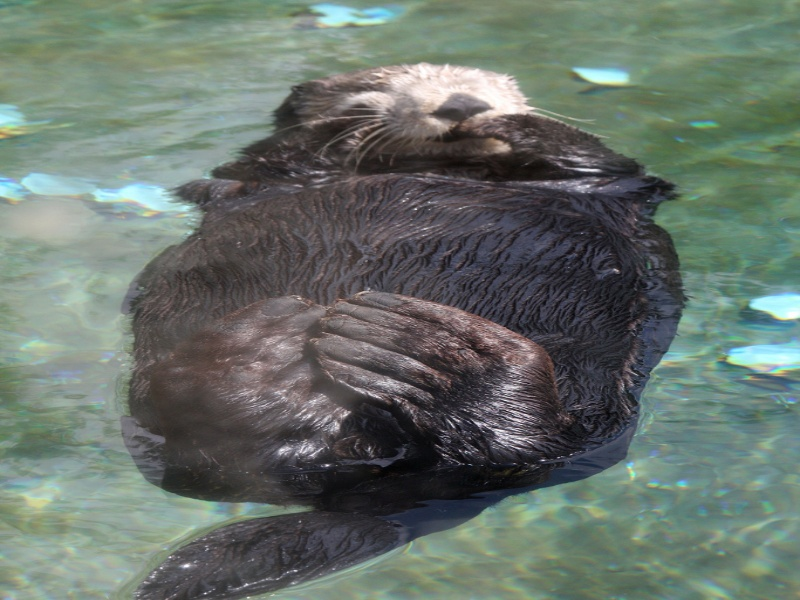minkish: (112, 48, 694, 589)
